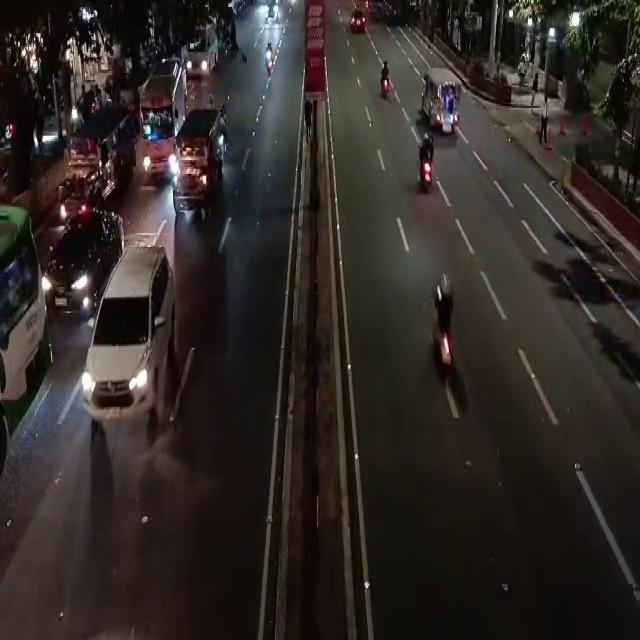bus: (141, 67, 182, 181)
car: (96, 272, 173, 426), (31, 221, 118, 315), (189, 29, 221, 77), (344, 10, 373, 35)
jeepney: (55, 114, 134, 224), (169, 114, 229, 232), (417, 67, 470, 141)
motorcycle: (434, 259, 460, 386), (416, 131, 439, 192), (380, 62, 399, 104), (264, 38, 280, 86)
